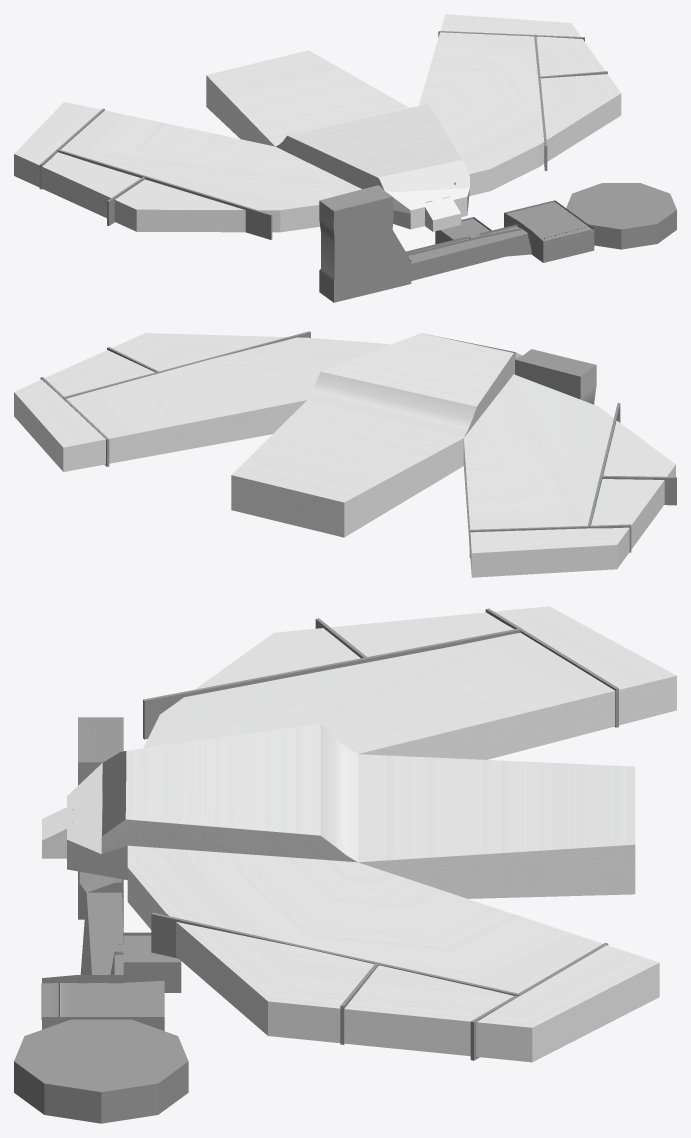
File: THEAsylumMAP3.fbx
The picture shows the model from 3 angles, top to bottom: view 1: azimuth 30°, elevation 25°; view 2: azimuth 150°, elevation 25°; view 3: azimuth 270°, elevation 25°; orthographic projection. The views are drawn at different scales.
Visible parts, largest first — view 1: polySurface724; view 2: polySurface724; view 3: polySurface724.
Boxes of the visible parts, <box> form: polySurface724: <box>14,14,676,302</box>; polySurface724: <box>14,331,676,577</box>; polySurface724: <box>14,606,676,1123</box>.
Size of the model in its own units: 98.62 by 17.61 by 65.55.
6 materials, 3 textured.
